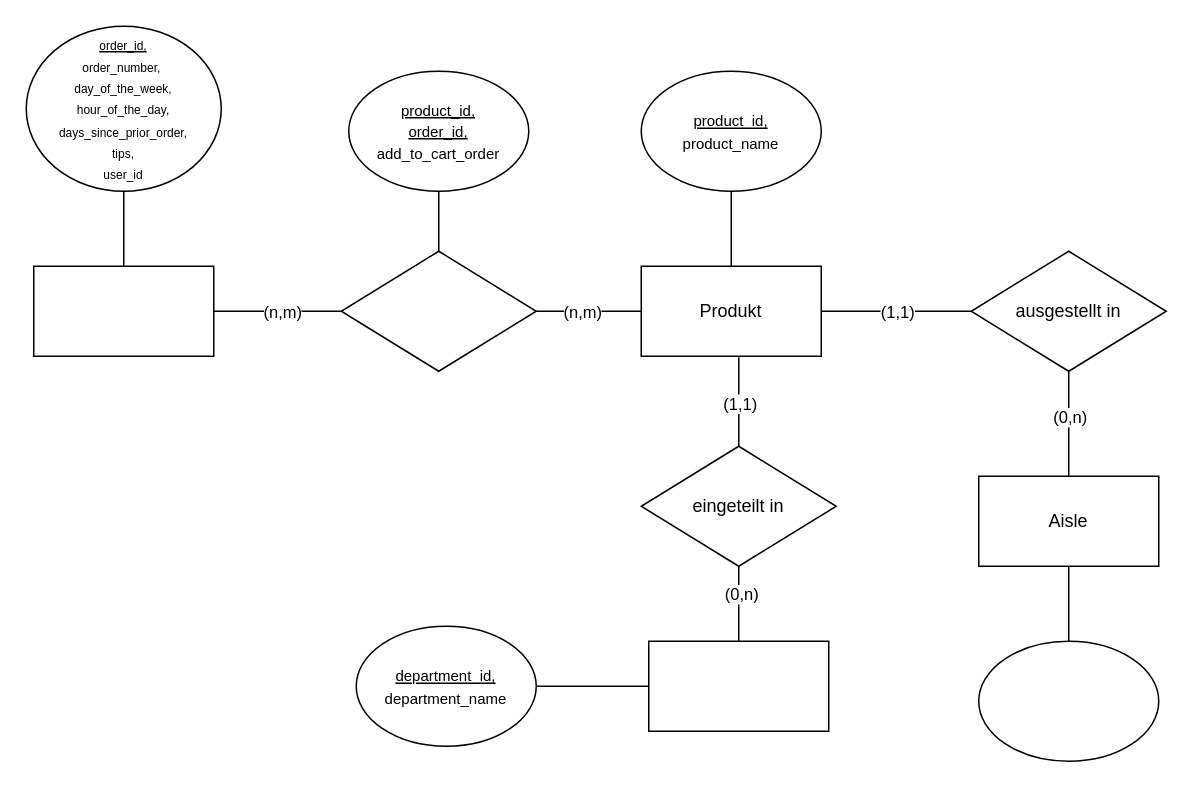
Image size: 1193x788. Some labels were removed from this diagram. Here are the shapes that lost their labels. From the top down, the centre of each, then its label:
[123,310]: Order
[438,310]: Einkaufskorb
[738,685]: Department
[1068,700]: aisle_id, aisle_name
